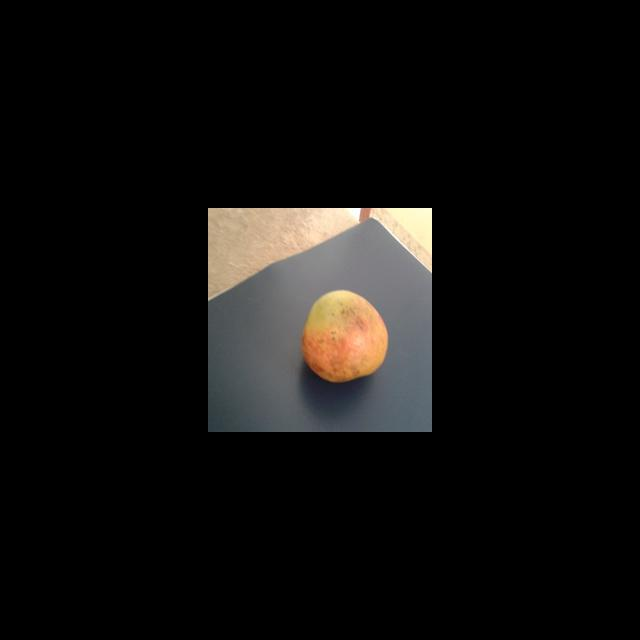Mango: (301, 289, 388, 383)
